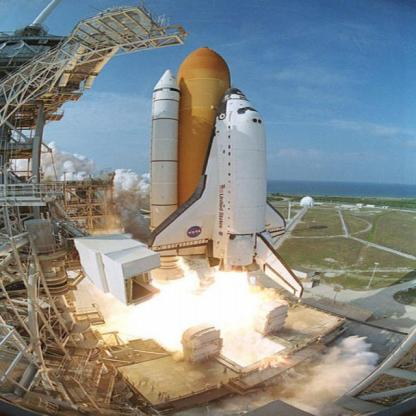MIL_TBM: (146, 67, 184, 274)
